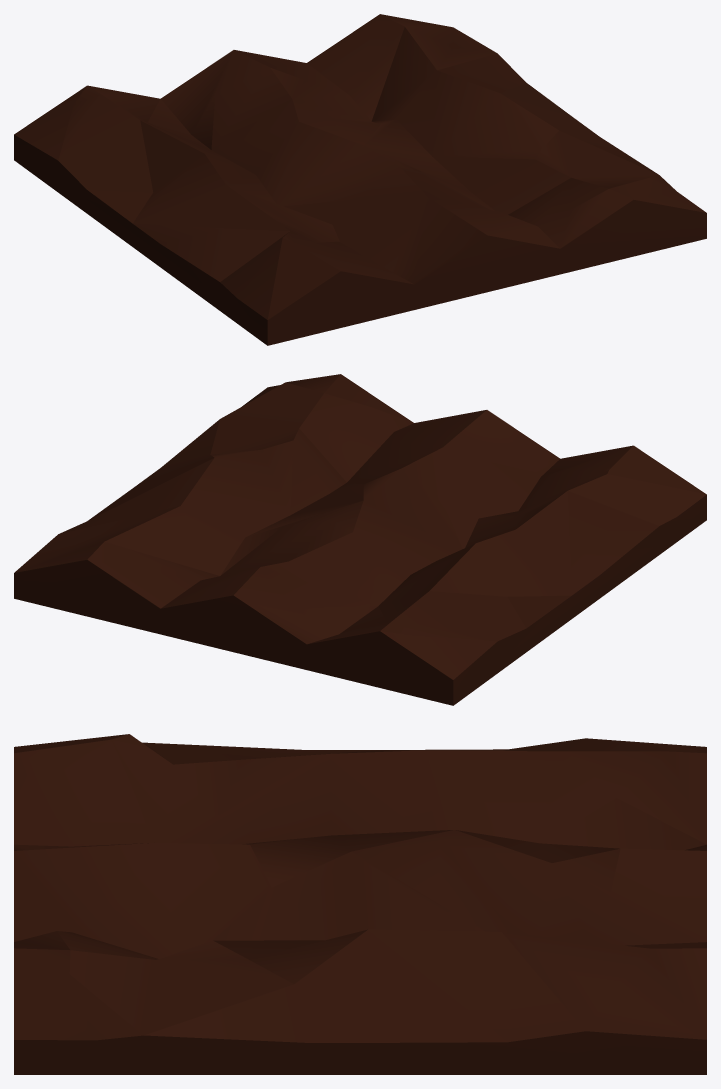
File: Mud_Patch_V.fbx
3 views of the same model, one above another, from view 1: azimuth 30°, elevation 25°; view 2: azimuth 150°, elevation 25°; view 3: azimuth 270°, elevation 25° (orthographic). The views are drawn at different scales.
Parts seen in each view (by area): view 1: Mud_Patch_V; view 2: Mud_Patch_V; view 3: Mud_Patch_V.
Part boxes in pixels (x1,y1,x2,y2): Mud_Patch_V: [14, 14, 706, 345]; Mud_Patch_V: [14, 374, 706, 705]; Mud_Patch_V: [14, 734, 706, 1074].
Bounding box in the file's own units: 147 × 22.03 × 147.
